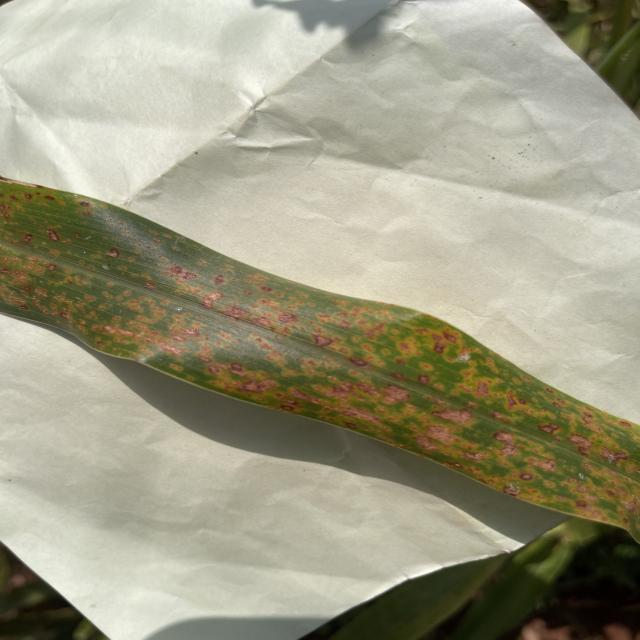millet_rust: (0, 180, 640, 535)
